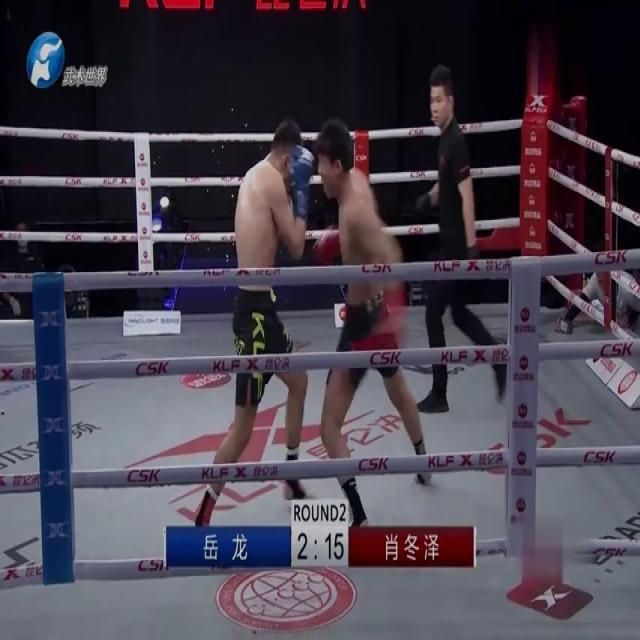fight: (195, 120, 437, 526)
non-fight: (416, 61, 508, 411), (558, 261, 638, 340), (1, 222, 44, 321)
